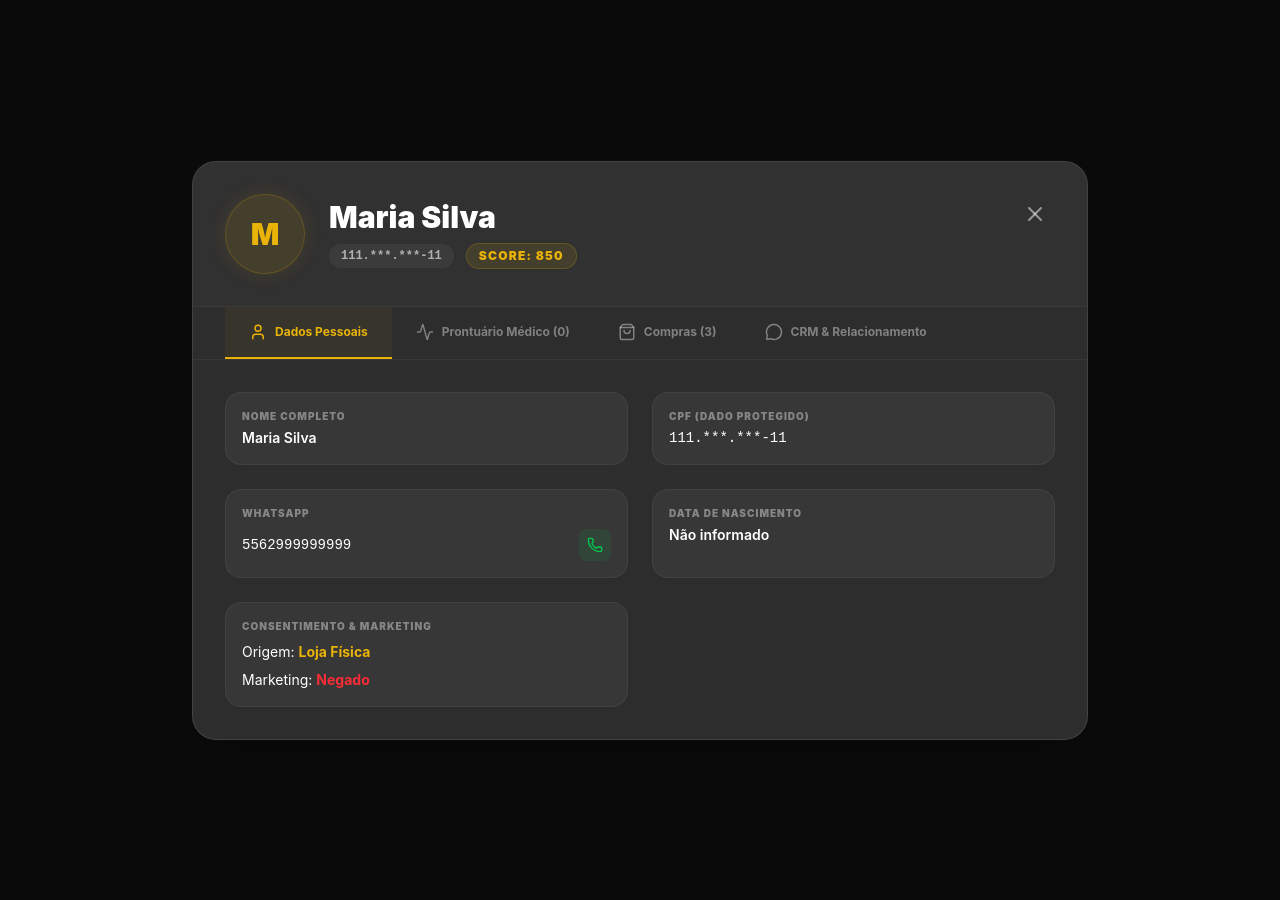
Test: ClientDetails Validation (ClientProfileModal) › deve renderizar o histórico completo com 3 receitas antigas do paciente
The width and height of the screenshot is (1280, 900).
Check: the heading "Maria Silva" is shown, box [329,198,496,234]
# Mudar para a aba de Compras
Step 1. Click the button "Compras (3)" → (667,332), box [594,306,741,358]
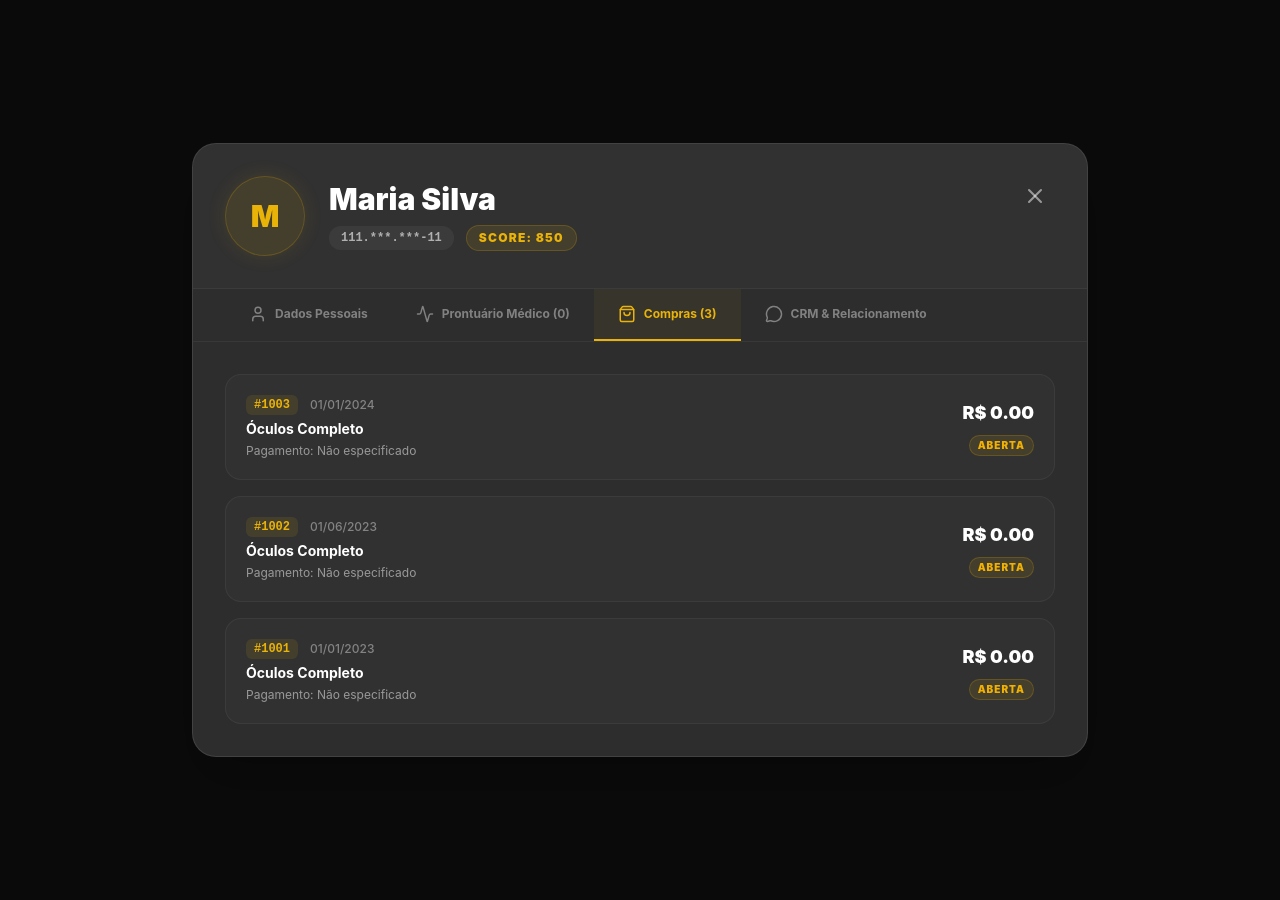
Check: the text "#1001" is shown, box [246,639,298,659]
Check: the text "#1002" is shown, box [246,517,298,537]
Check: the text "#1003" is shown, box [246,395,298,415]
